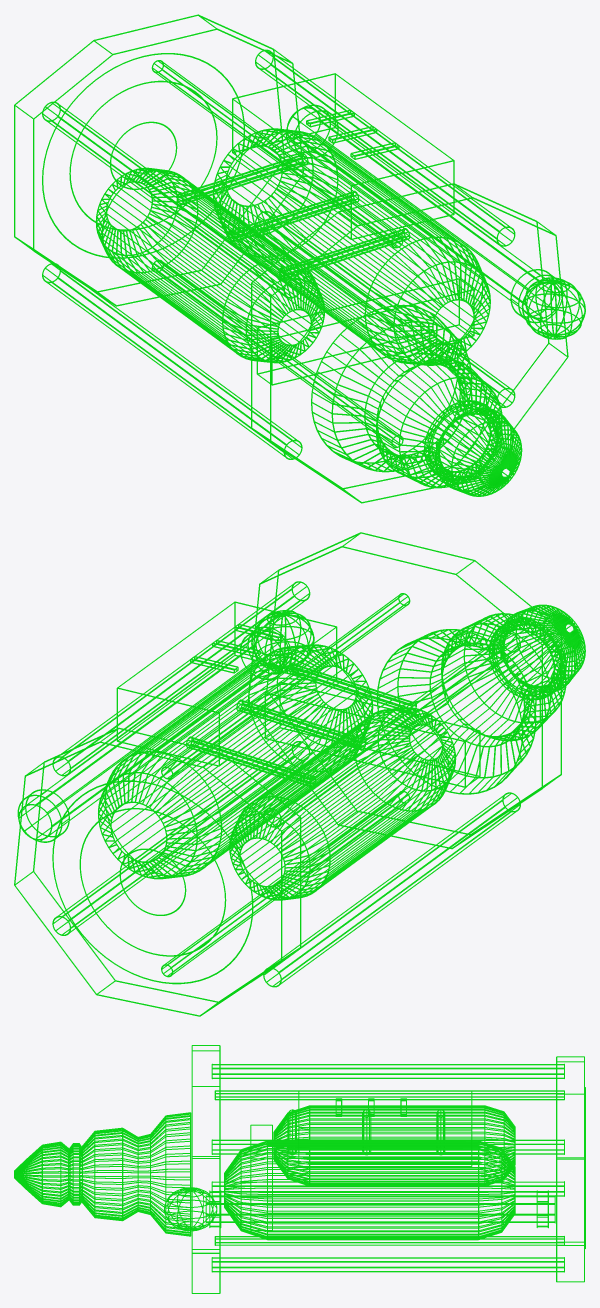
File: turret-optimiser-wireframe.glb
3 views of the same model, one above another, from view 1: azimuth 30°, elevation 25°; view 2: azimuth 150°, elevation 25°; view 3: azimuth 270°, elevation 25° (orthographic). The views are drawn at different scales.
Visible parts, largest first — view 1: flux-capacitor-system technical wire, chassis technical wire, stored-energy-output technical wire, manual-pulse-control technical wire; view 2: flux-capacitor-system technical wire, chassis technical wire, stored-energy-output technical wire, manual-pulse-control technical wire; view 3: flux-capacitor-system technical wire, chassis technical wire, stored-energy-output technical wire, manual-pulse-control technical wire.
Part boxes in pixels (box(x1,y1,x2,y2)): flux-capacitor-system technical wire: box(95, 128, 490, 385); chassis technical wire: box(14, 14, 568, 503); stored-energy-output technical wire: box(311, 304, 522, 496); manual-pulse-control technical wire: box(285, 104, 585, 339); flux-capacitor-system technical wire: box(98, 644, 480, 900); chassis technical wire: box(14, 532, 561, 1016); stored-energy-output technical wire: box(376, 604, 585, 794); manual-pulse-control technical wire: box(17, 610, 314, 842); flux-capacitor-system technical wire: box(224, 1105, 515, 1240); chassis technical wire: box(191, 1045, 585, 1293); stored-energy-output technical wire: box(14, 1112, 191, 1236); manual-pulse-control technical wire: box(164, 1187, 555, 1231).
Size of the model in its own units: 0.8424 by 0.738 by 1.85.
